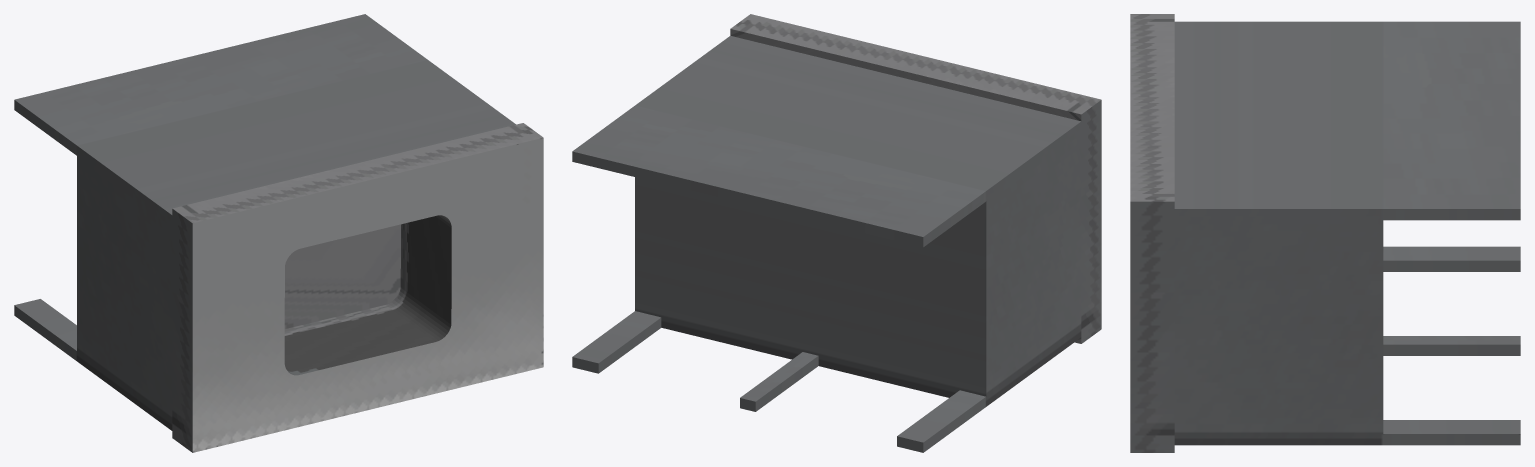
File: pz_counter_steel_floor__sink_inset_rect.obj
3 views of the same model, side by side, from view 1: azimuth 30°, elevation 25°; view 2: azimuth 150°, elevation 25°; view 3: azimuth 270°, elevation 25° (orthographic). The views are drawn at different scales.
Bounding box in the file's own units: 1 × 0.625 × 0.88.
1 material, 1 textured.
